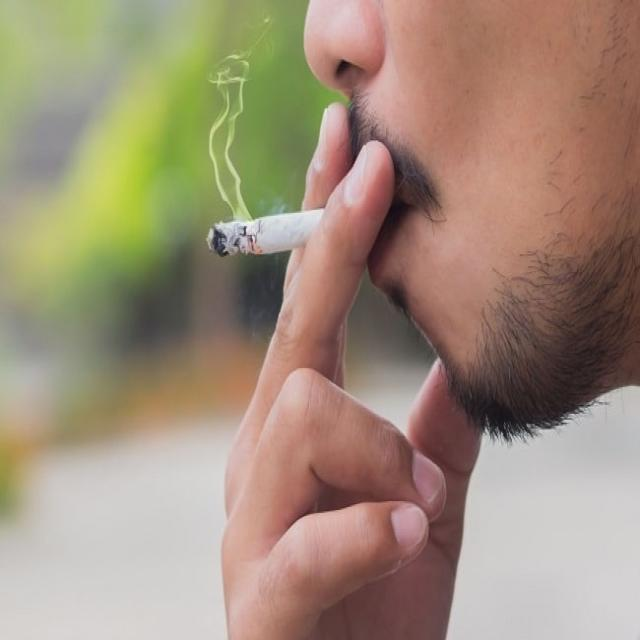rokok: (204, 193, 362, 263)
